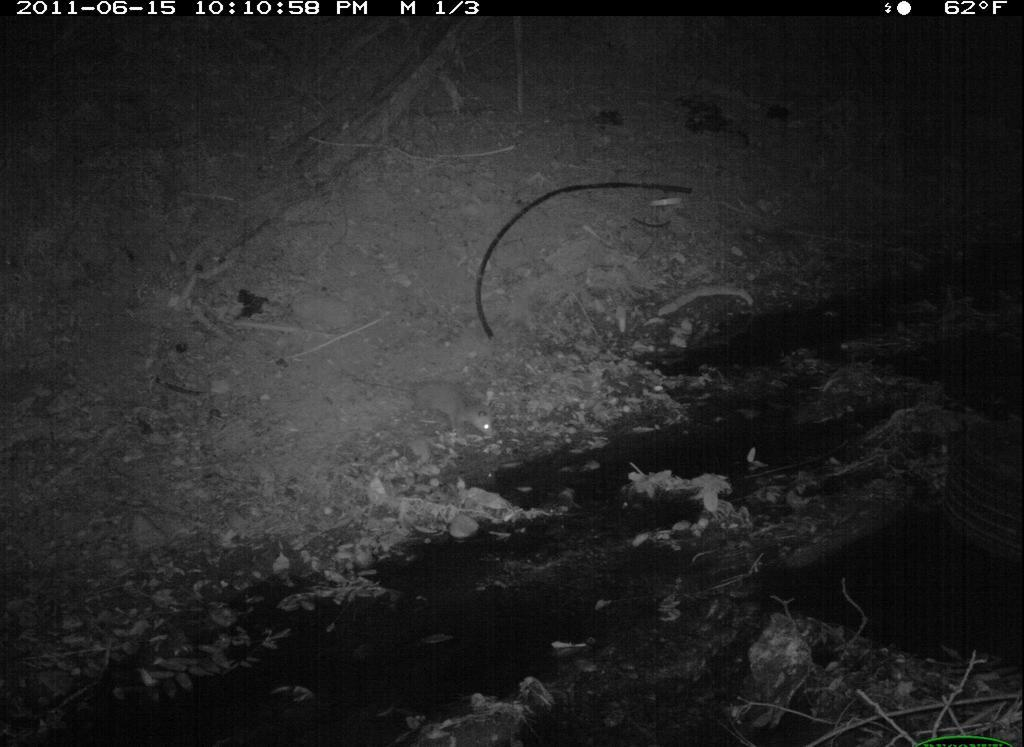opossum: (342, 368, 509, 460)
